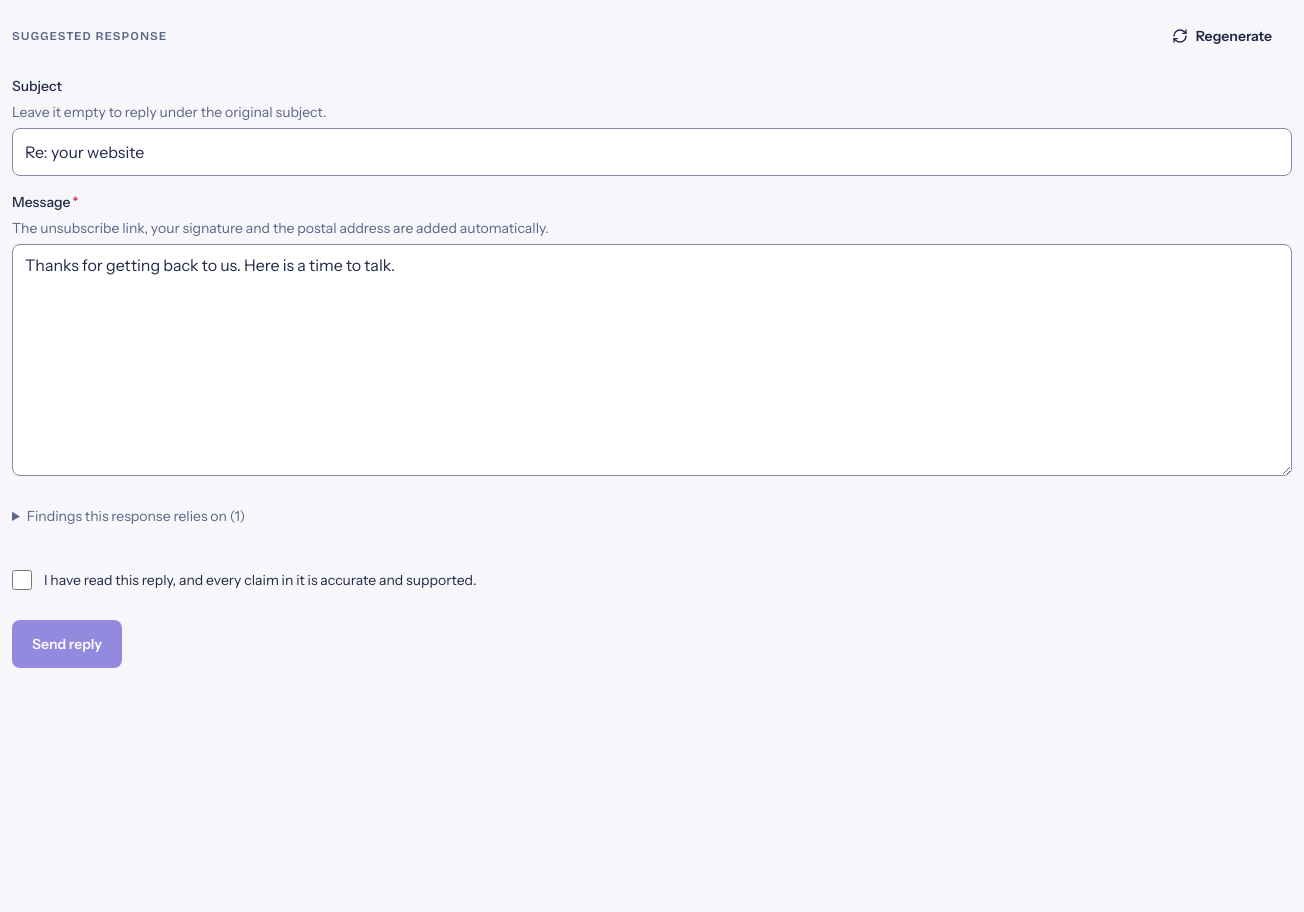
Scenario: ReplyComposer › empties the composer once the reply has gone out
The width and height of the screenshot is (1304, 912).
Step 1. Click the checkbox labelled "every claim in it is accurate" → (22, 580), box [12,570,32,590]
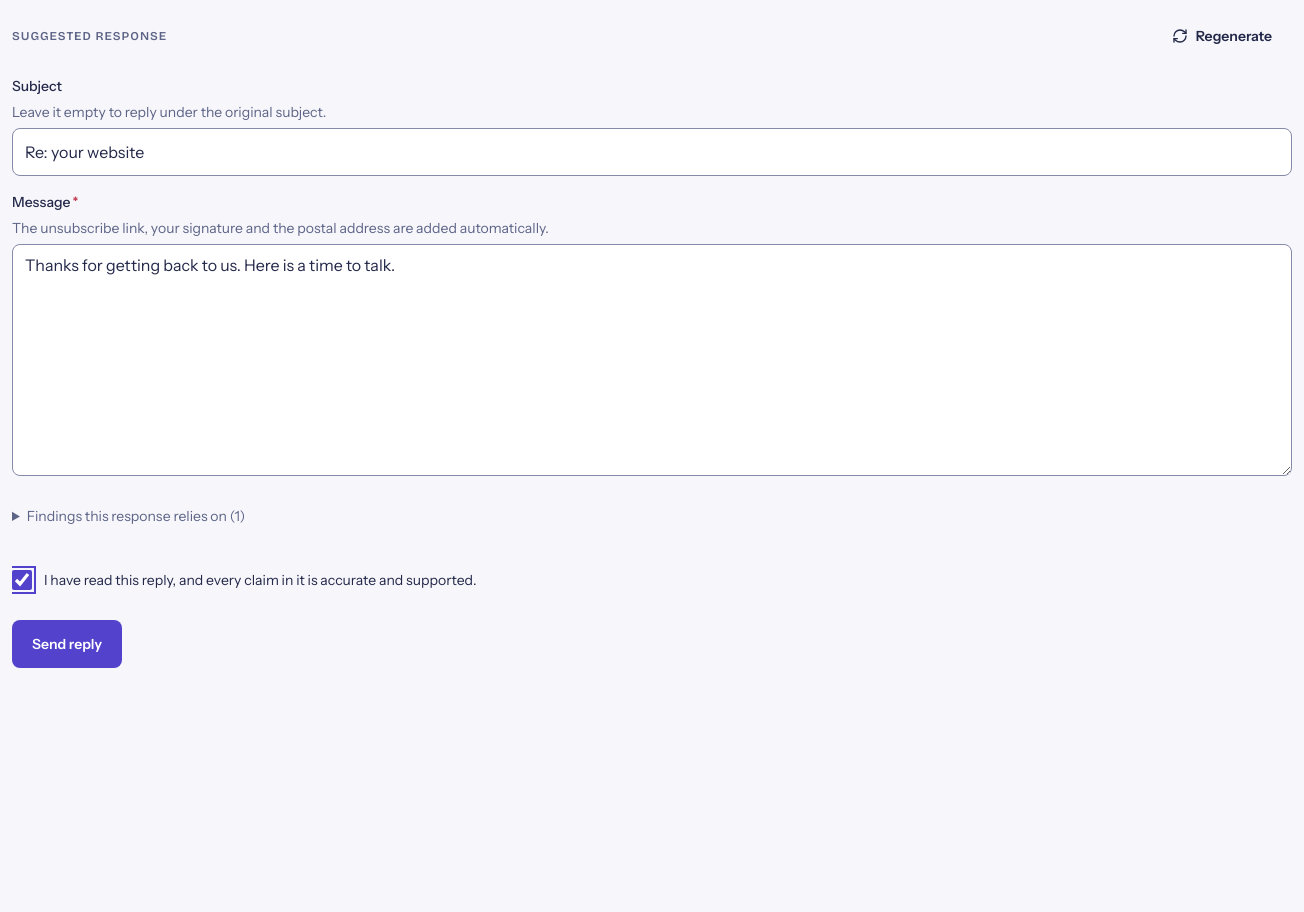
Step 2. Click the button "Send reply" → (67, 644), box [12,620,122,668]
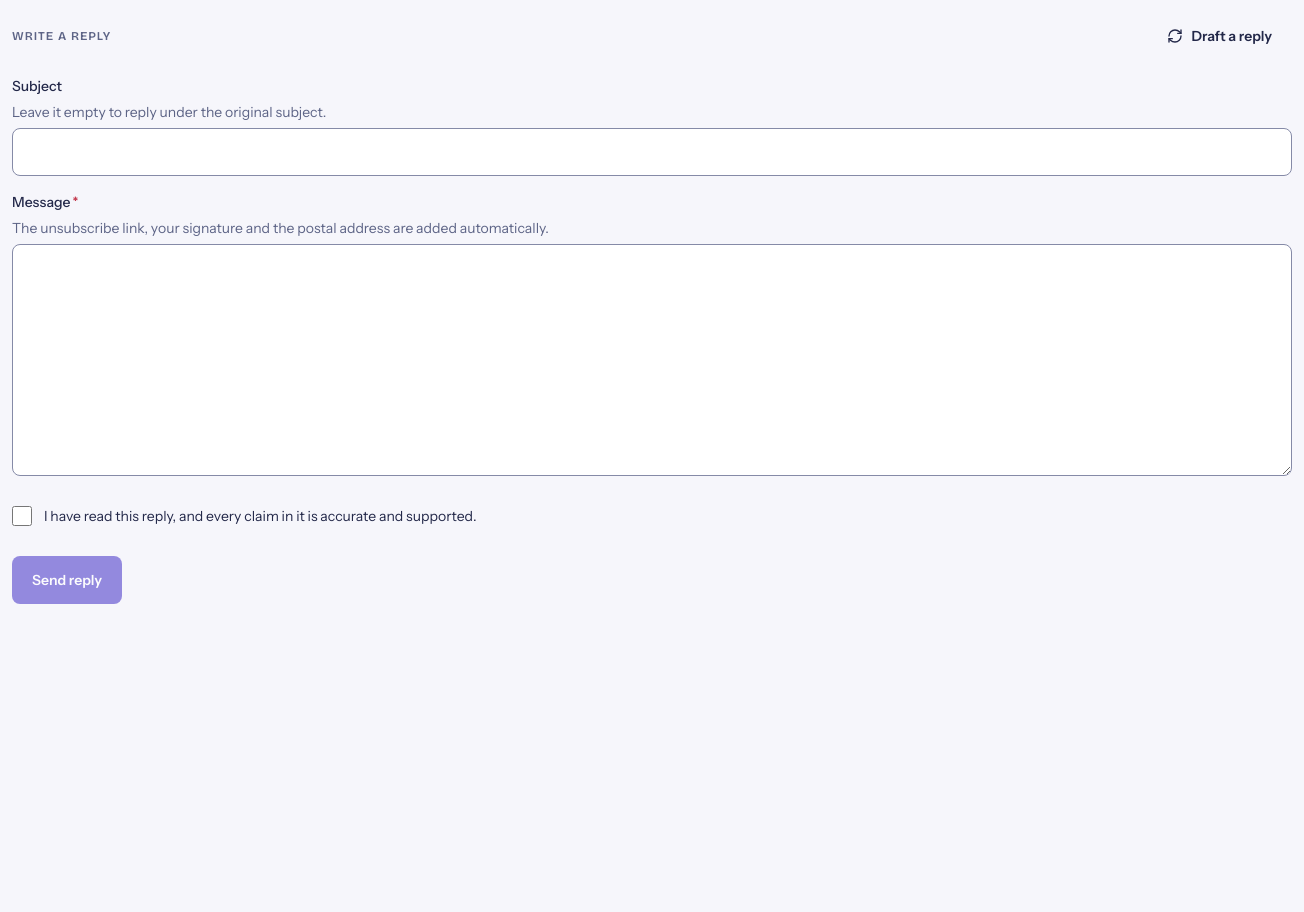
Expected: the checkbox labelled "every claim in it is accurate" is not checked, [12,506,32,526]
Expected: the text box labelled "Message*" is empty, [12,244,1292,476]
